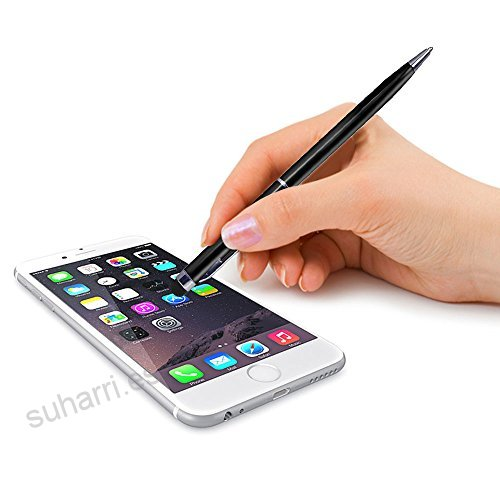Boligrafo: (178, 44, 437, 296)
